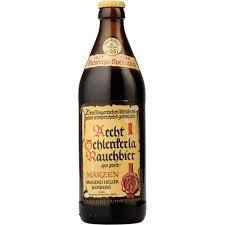beer: (79, 1, 146, 225)
